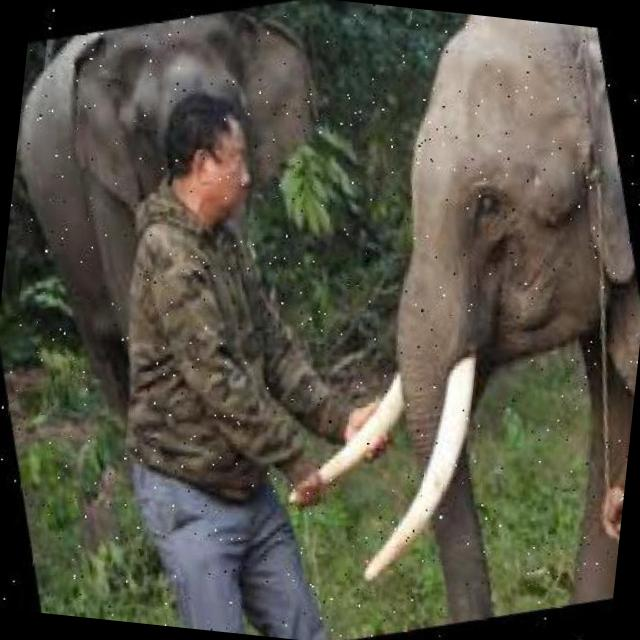elephant: (332, 8, 640, 580), (41, 0, 294, 157)
ranger: (82, 104, 369, 630)
